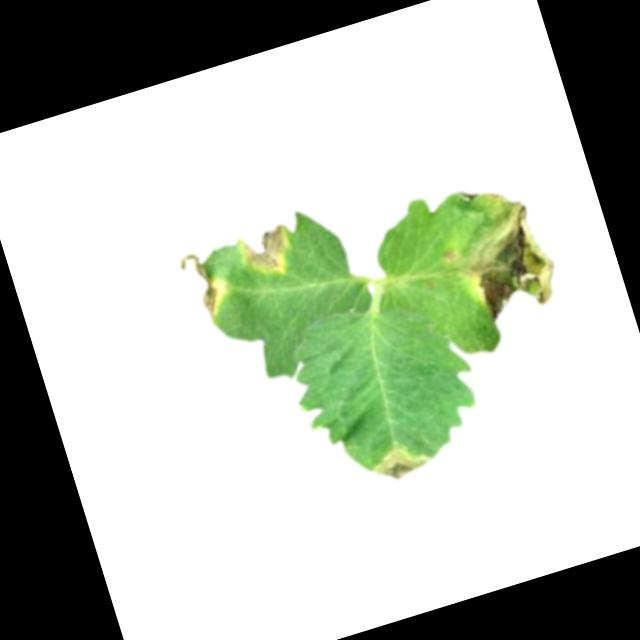Late_blight: (435, 170, 569, 330), (177, 246, 235, 325), (236, 221, 300, 286), (369, 441, 431, 488)
